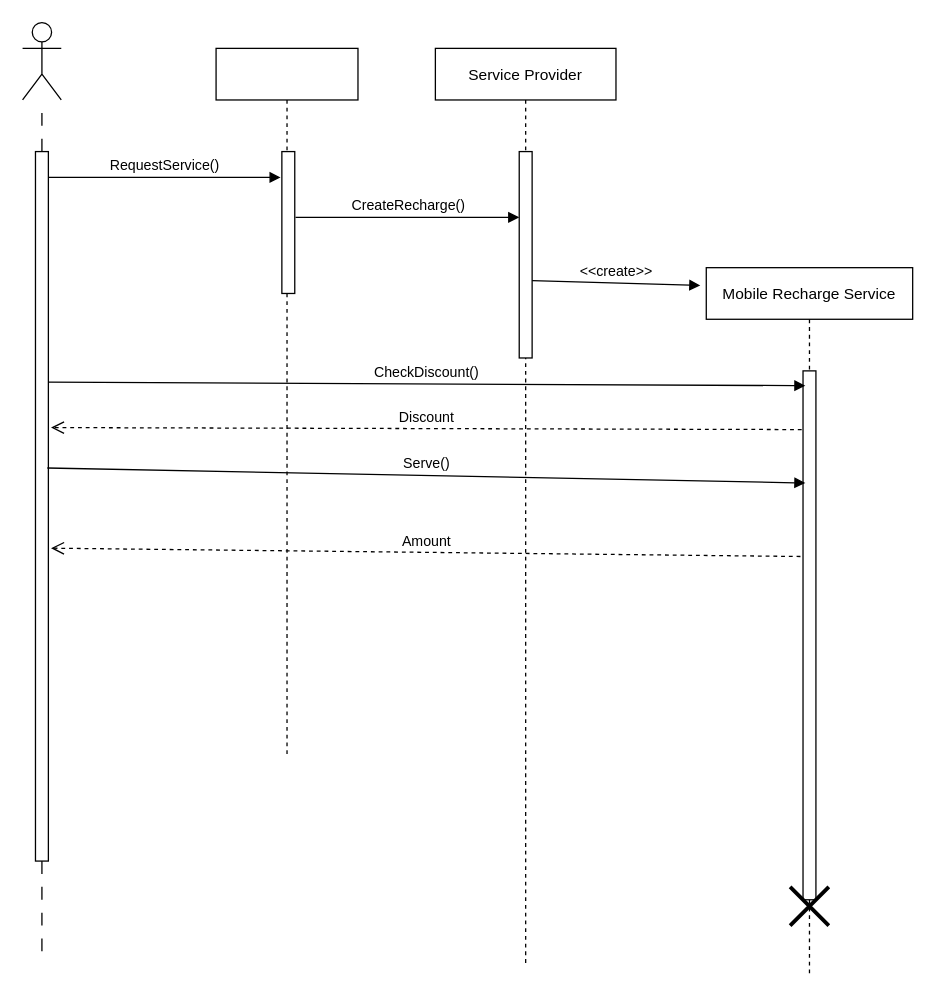
Image size: 935x1000. Some labels were removed from this diagram. The shapes that lost their labels are listed below. From the top down, each one's box as (x1, y1, x2, y2) in pixels, then its label:
(21, 21, 61, 100): User
(215, 47, 358, 758): Transaction
